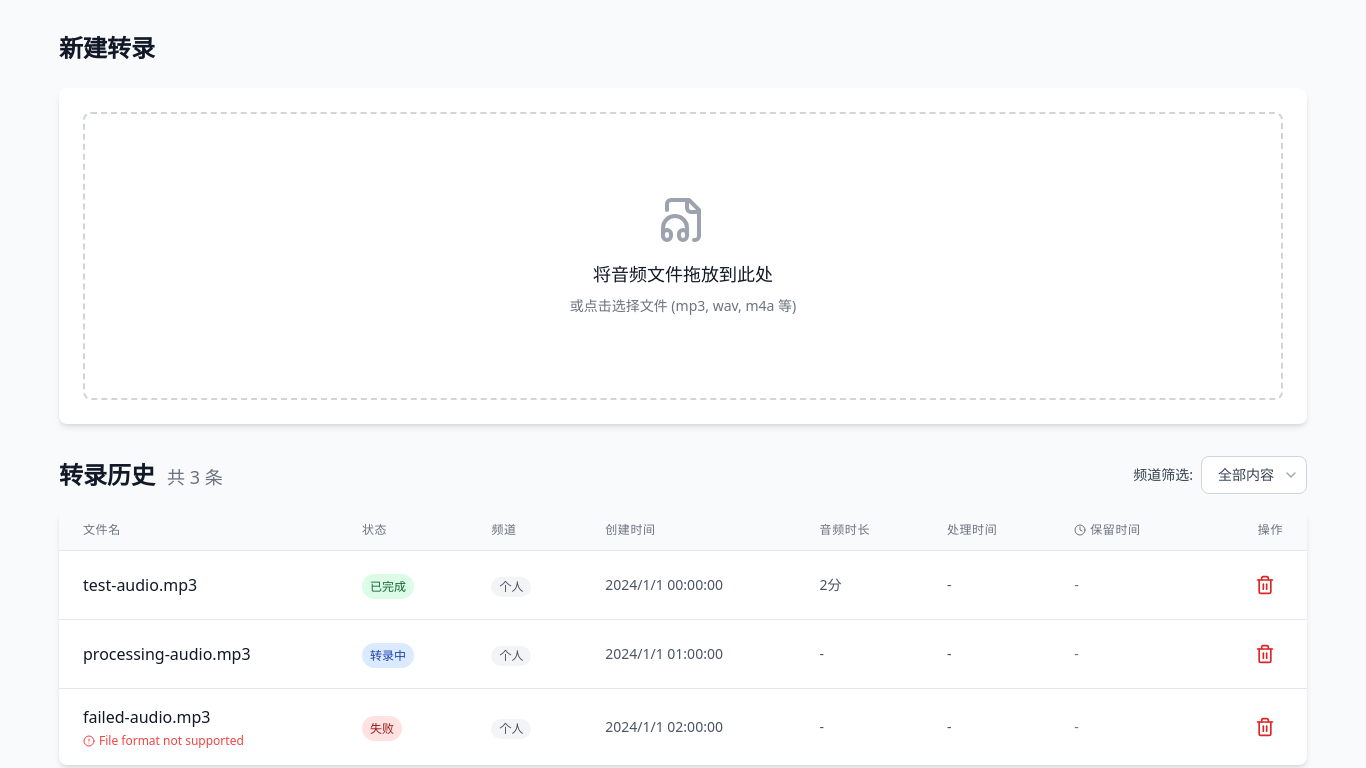
Test case: TranscriptionList › Delete Functionality › 削除ボタンをクリックすると確認ダイアログが表示される
This screenshot has width=1366, height=768.
expect the text "failed-audio.mp3" is shown: met, box [83,706,210,728]
Click the button titled "删除" in the row of "failed-audio.mp3" at (1265,727), box [1247,709,1283,745]
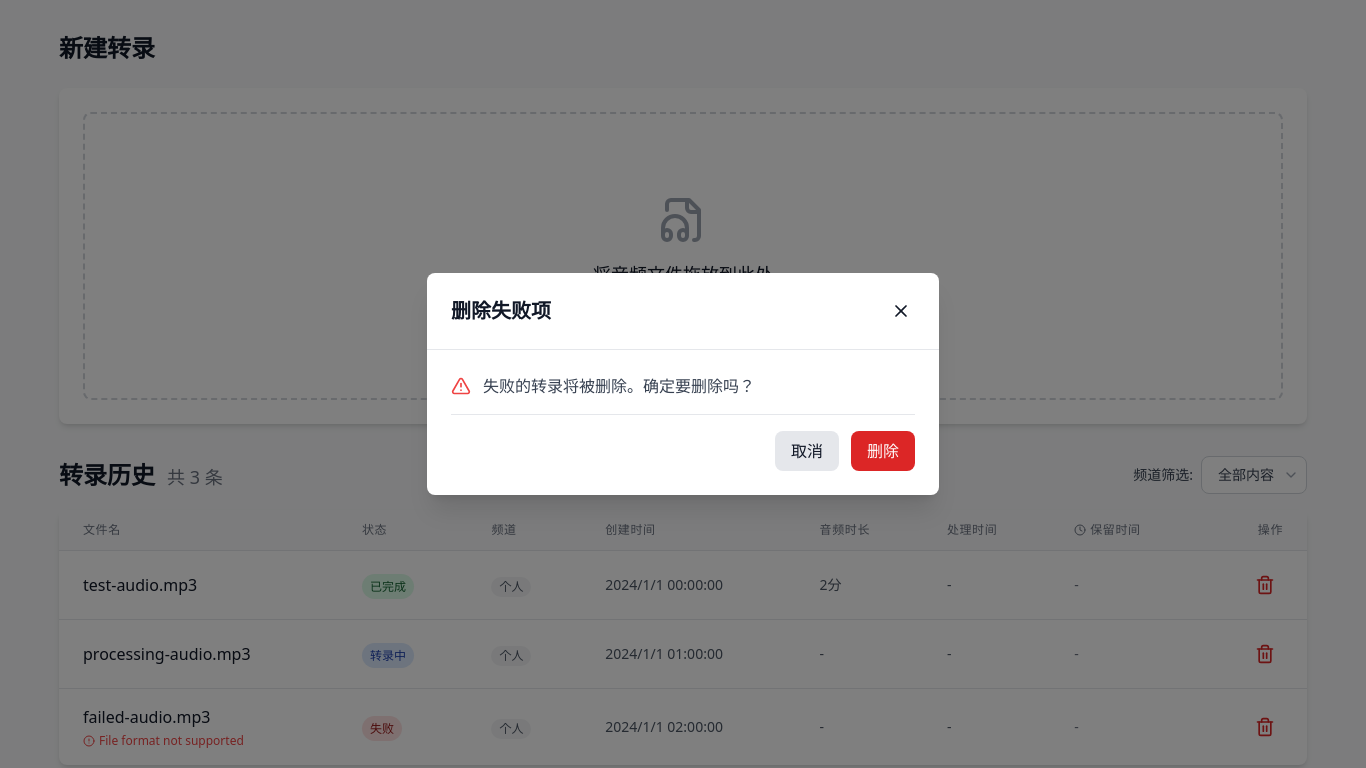
expect the heading "删除失败项" is shown: met, box [451,297,551,325]
expect the text "失败的转录将被删除。确定要删除吗？" is shown: met, box [483,375,755,397]
